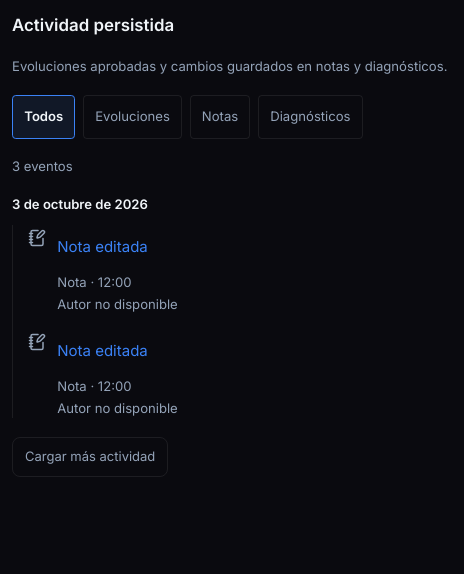
Test case: keeps revision events distinct, deduplicates page overlap and uses exact resource links
The image size is (464, 574).
Expected: the number of links "Nota editada" is 2, 57,237 -> 148,256; 57,341 -> 148,360
Click the button "Cargar más actividad": (90, 456) 12,436 -> 168,476
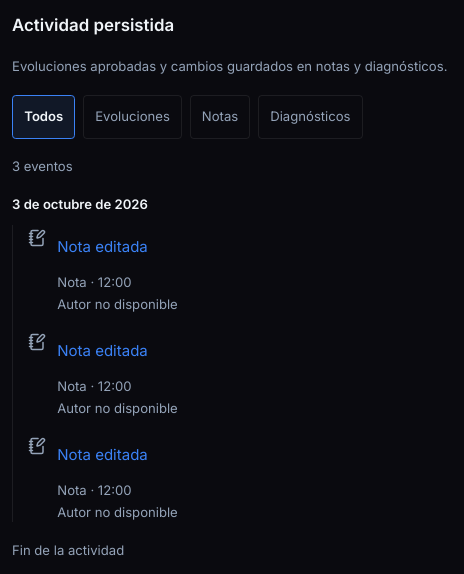
Now the number of links "Nota editada" is 3, box 57,237 -> 148,256; 57,341 -> 148,360; 57,445 -> 148,464
Now the text "Fin de la actividad" is shown, box 12,542 -> 124,558
Now the text "Autor no disponible" is shown 3 times, box 57,295 -> 178,314; 57,399 -> 178,418; 57,503 -> 178,522
